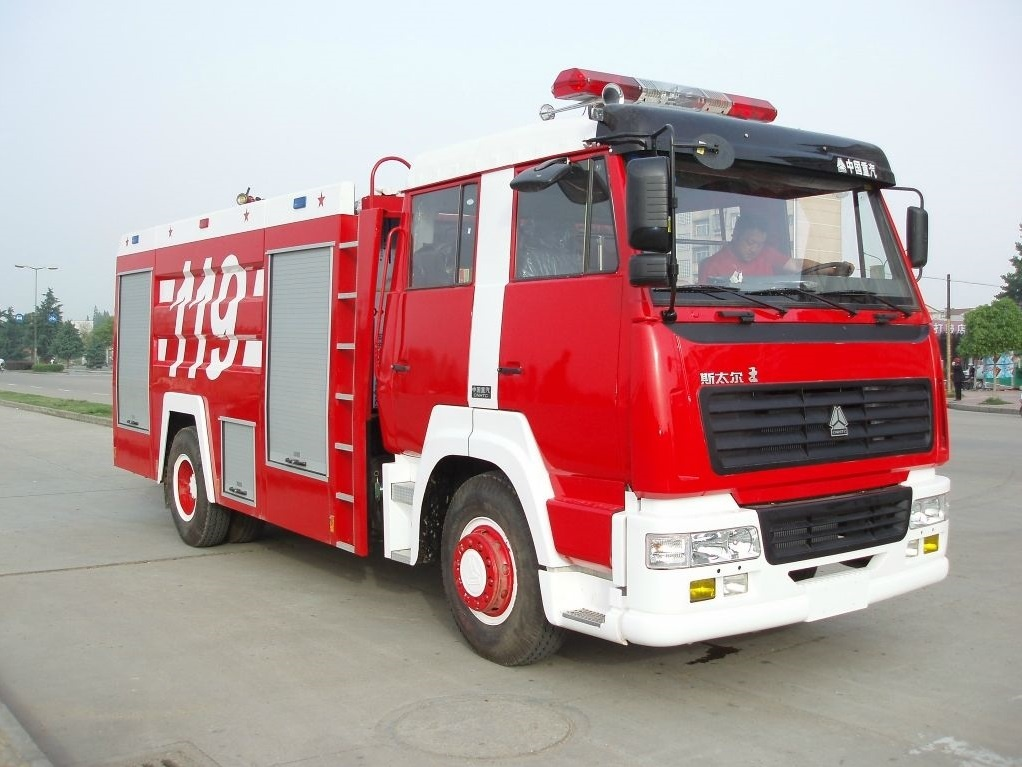fire engine: (105, 69, 960, 665)
